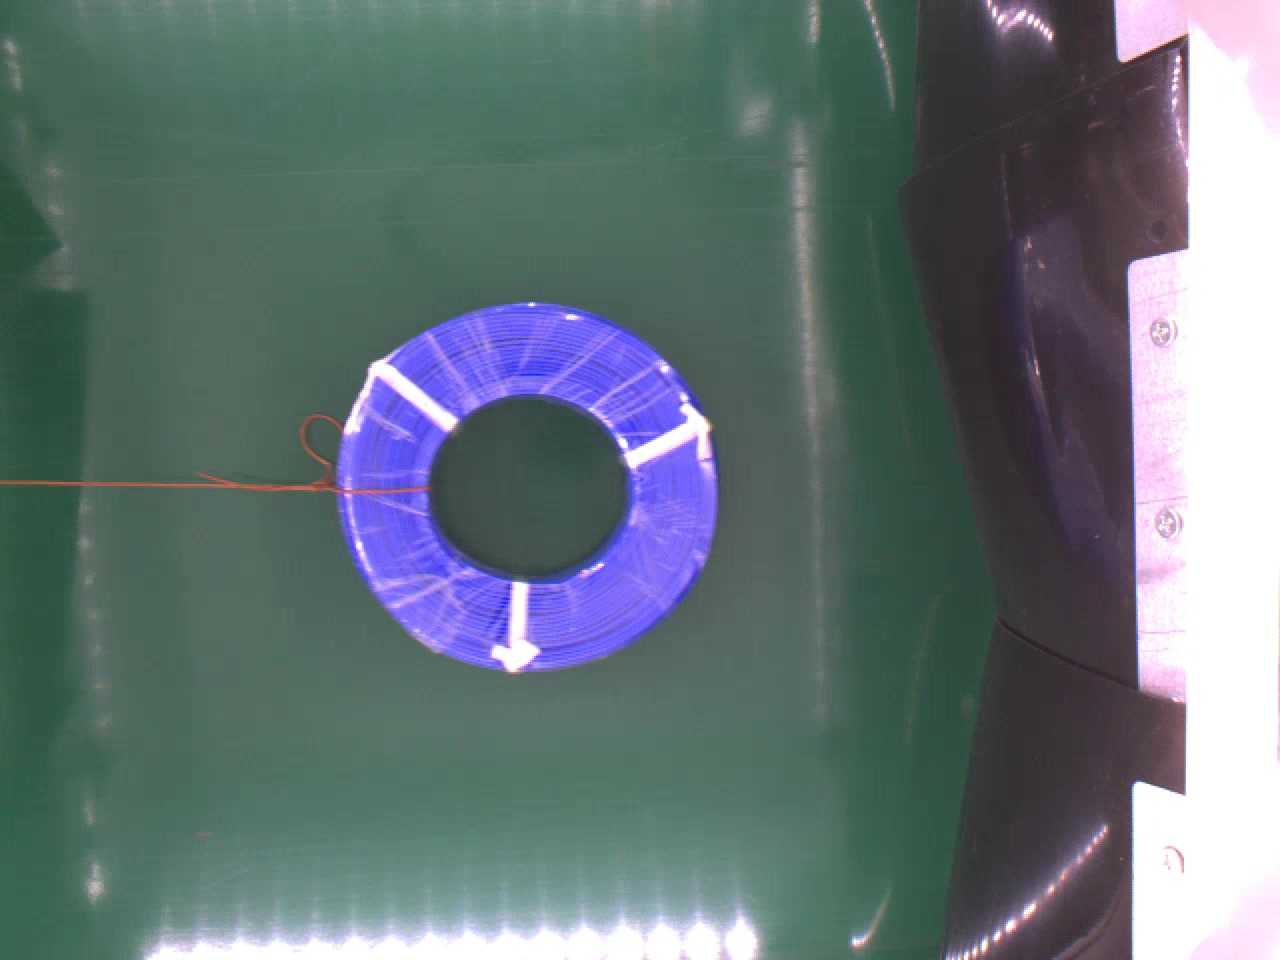blue: (332, 297, 723, 675)
